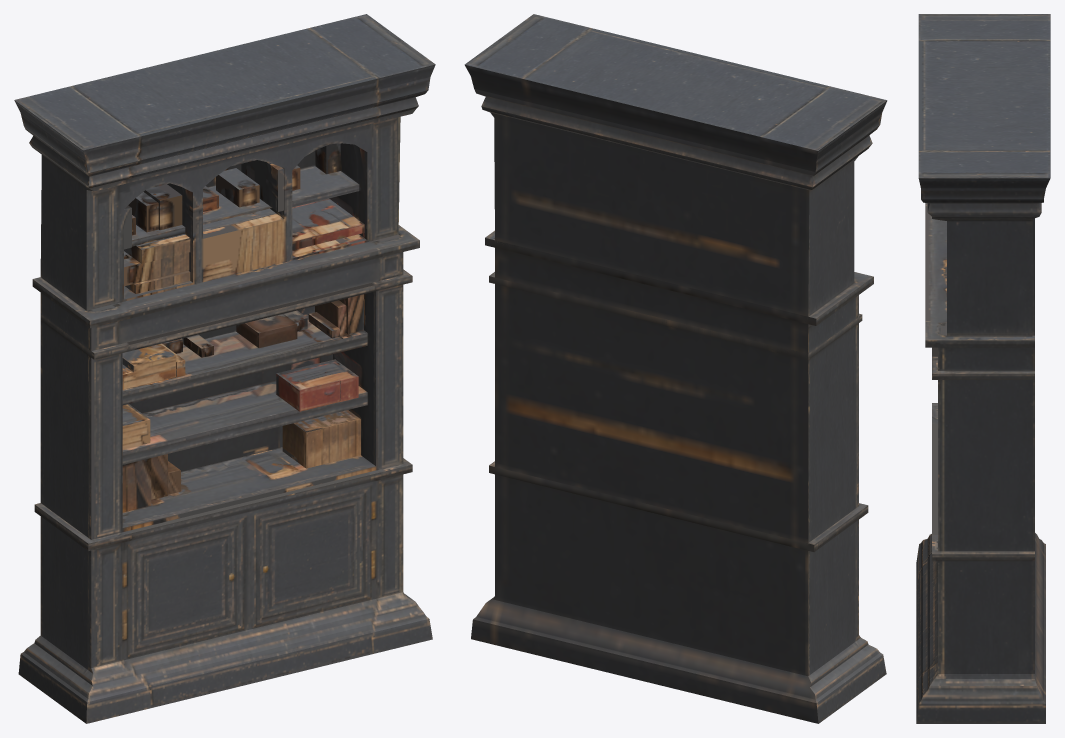
File: Bookcase_Display.fbx
3 views of the same model, side by side, from view 1: azimuth 30°, elevation 25°; view 2: azimuth 150°, elevation 25°; view 3: azimuth 270°, elevation 25° (orthographic). The views are drawn at different scales.
Visible parts, largest first — view 1: Bookcase_Display_Low; view 2: Bookcase_Display_Low; view 3: Bookcase_Display_Low.
Boxes of the visible parts, x1,y1,x2,y2 form: Bookcase_Display_Low: (14,14,435,723); Bookcase_Display_Low: (464,14,887,723); Bookcase_Display_Low: (916,14,1050,723).
Bounding box in the file's own units: 1.74 × 2.7 × 0.6.
